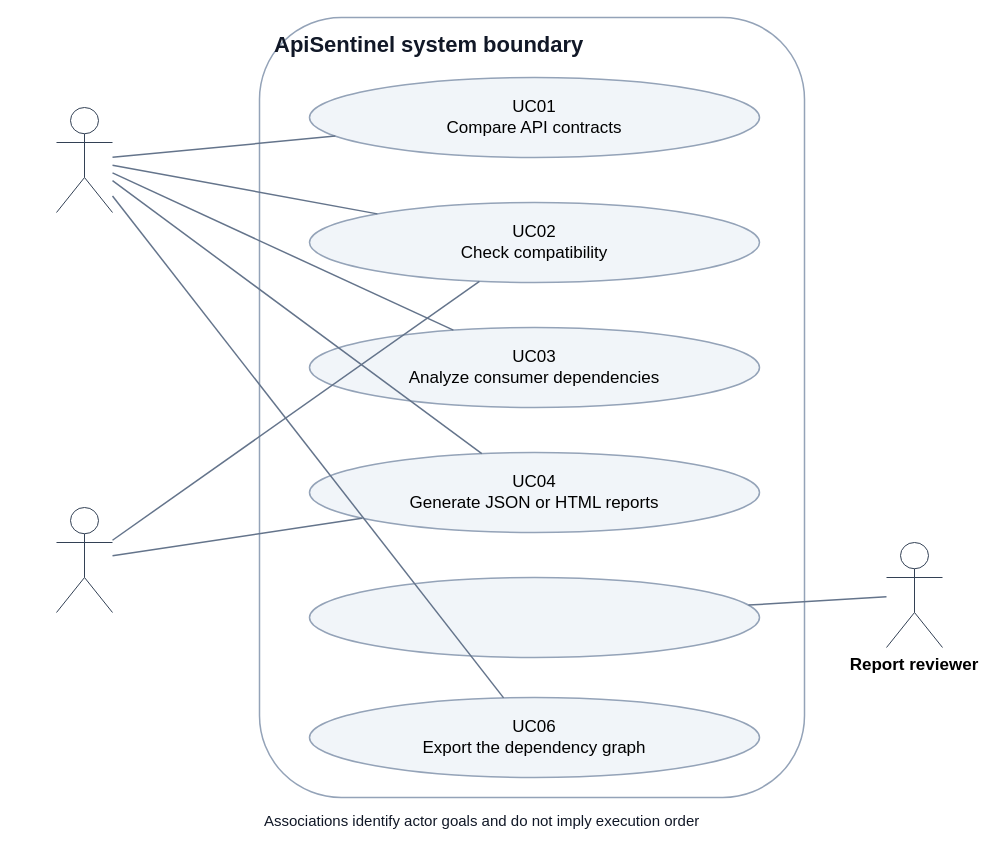
This 997x855 diagram has some shape labels left out. Here are the shapes that lost their labels. From the top down, the centre of each, then its label:
point (84, 159): Developer or QA
point (84, 559): CI pipeline
point (534, 617): UC05 Inspect the HTML report
